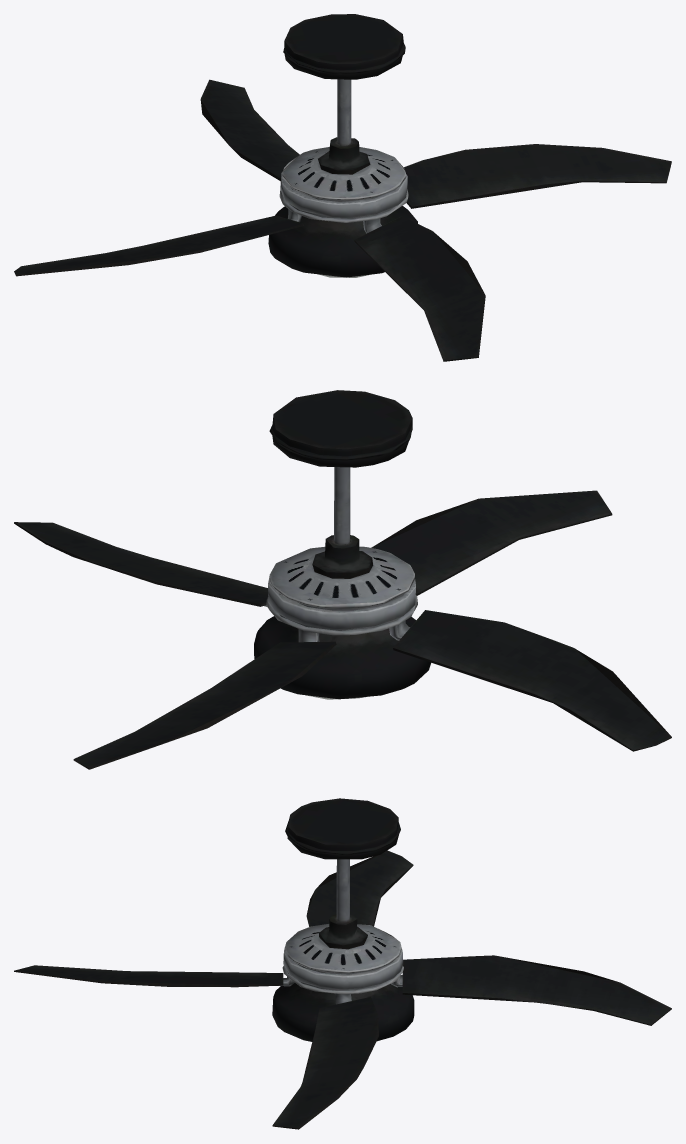
The model's file is ceiling_fan.glb.
3 renders of one model, top to bottom at view 1: azimuth 30°, elevation 25°; view 2: azimuth 150°, elevation 25°; view 3: azimuth 270°, elevation 25°, orthographic. The views are drawn at different scales.
Parts seen in each view (by area): view 1: ceiling_fan; view 2: ceiling_fan; view 3: ceiling_fan.
Part boxes in pixels (<box>): ceiling_fan: <box>14,14,671,361</box>; ceiling_fan: <box>14,390,671,769</box>; ceiling_fan: <box>14,798,671,1129</box>.
Size of the model in its own units: 1.46 by 0.5137 by 1.46.
1 material, 1 textured.
